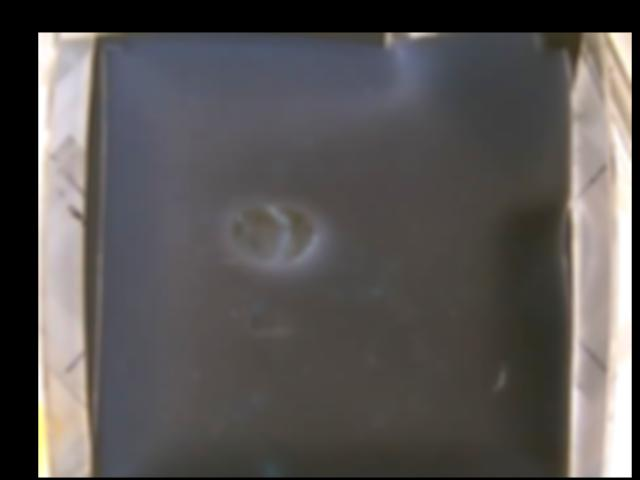Pebble: (230, 204, 319, 263)
